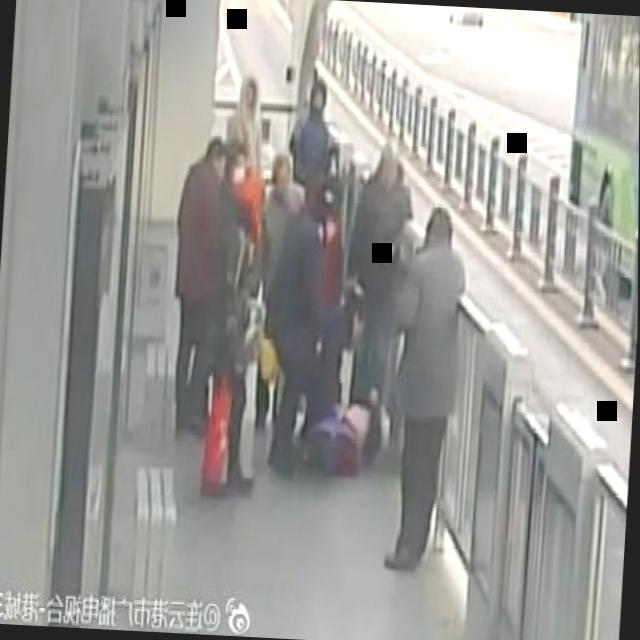Fall-Detected: (285, 377, 400, 482)
